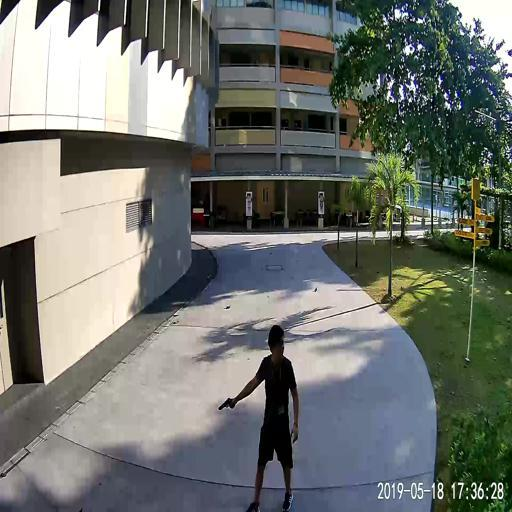Handgun: (216, 395, 233, 412)
